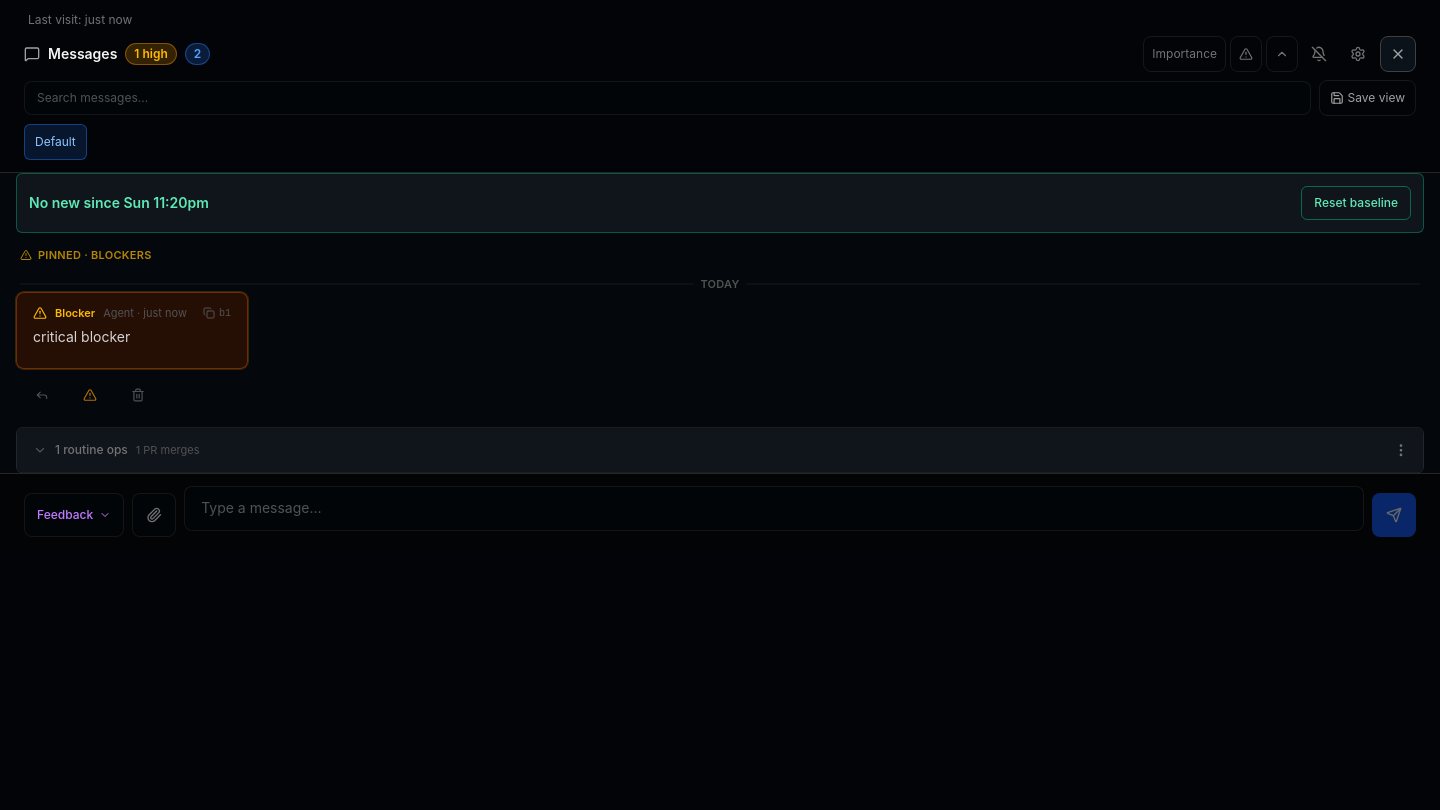
Scenario: MessagesPanel mute window › BLOCKERs remain visible while mute is active
The image size is (1440, 810).
Click the button named "Mute routine ops temporarily" at (1319, 54), box [1302,36,1336,72]
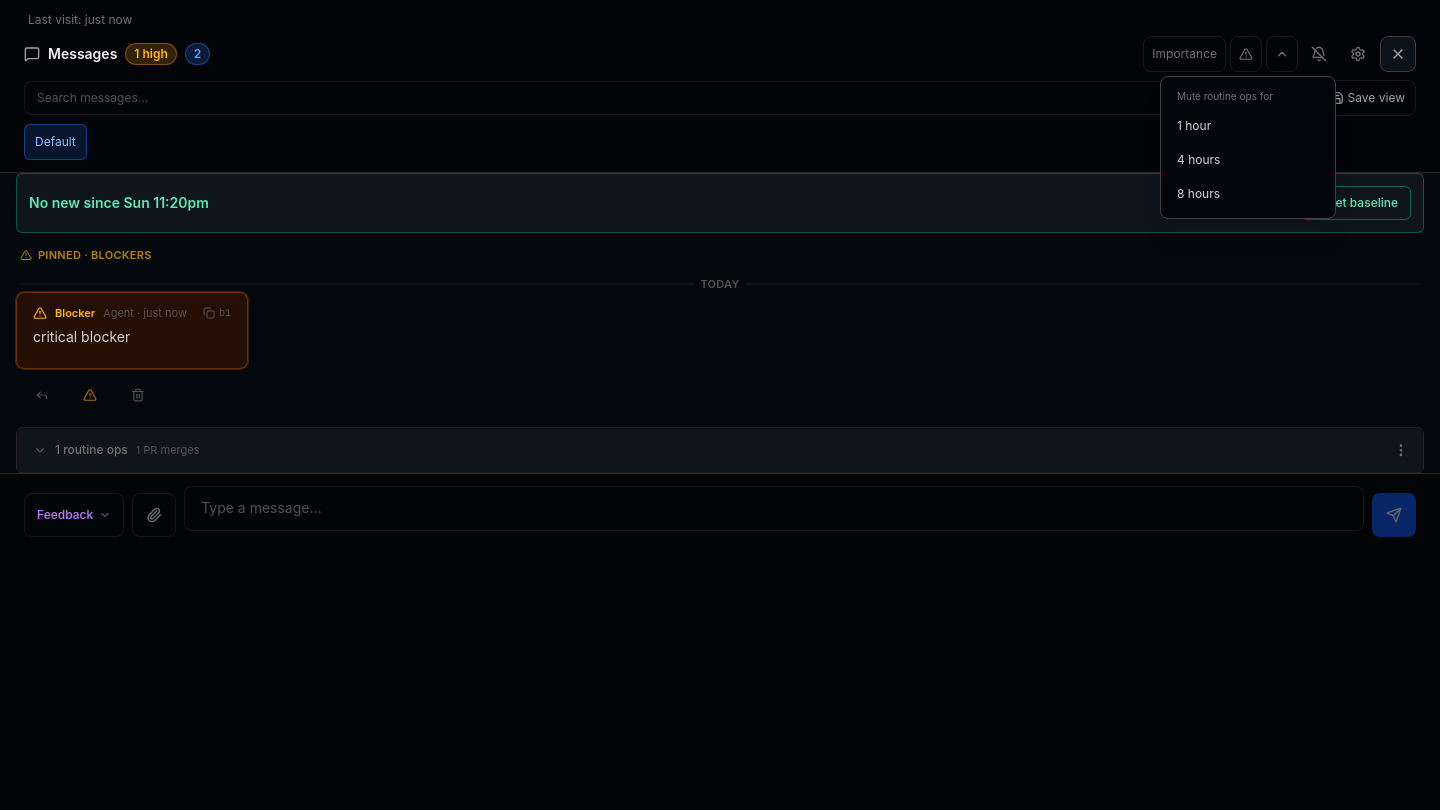
Click the button "1 hour" at (1248, 126), box [1169,110,1327,142]
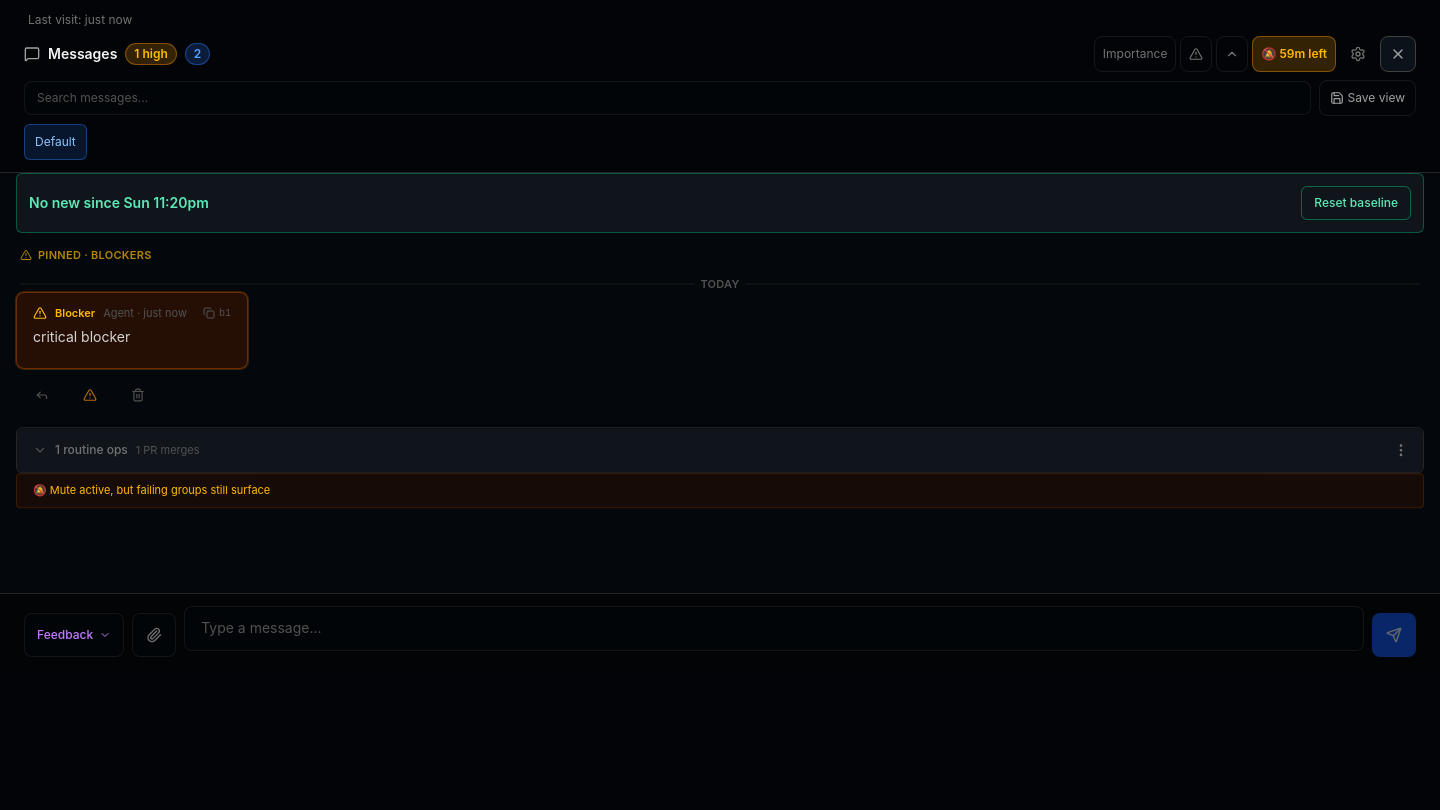
Expected: the text "critical blocker" is shown, [33,328,130,344]
Result: the text "Mute active" is shown at [33,483,270,497]
